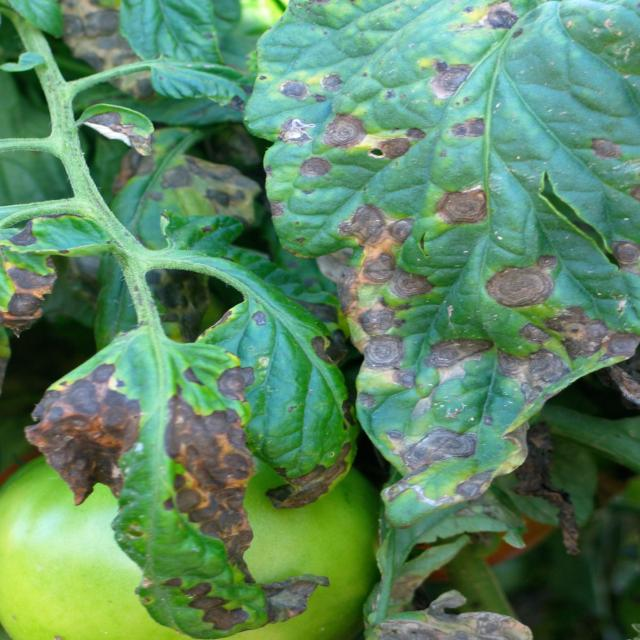Early_blight: (162, 368, 259, 586), (333, 200, 433, 397), (23, 360, 144, 508), (492, 305, 637, 405), (508, 419, 584, 558), (54, 1, 152, 100), (382, 426, 499, 505), (146, 154, 261, 227), (376, 590, 535, 640), (3, 221, 58, 338), (264, 441, 353, 508), (318, 109, 429, 162), (162, 572, 248, 631), (146, 269, 213, 343), (480, 250, 558, 309), (255, 573, 330, 625), (82, 109, 150, 157), (441, 1, 527, 38), (425, 330, 493, 376), (415, 54, 473, 101), (276, 67, 347, 105), (434, 186, 487, 229), (311, 328, 350, 368), (609, 235, 640, 279), (449, 111, 488, 142), (295, 152, 336, 179), (272, 117, 313, 144), (590, 132, 625, 162), (339, 397, 358, 434), (251, 307, 267, 331), (267, 197, 285, 217)
